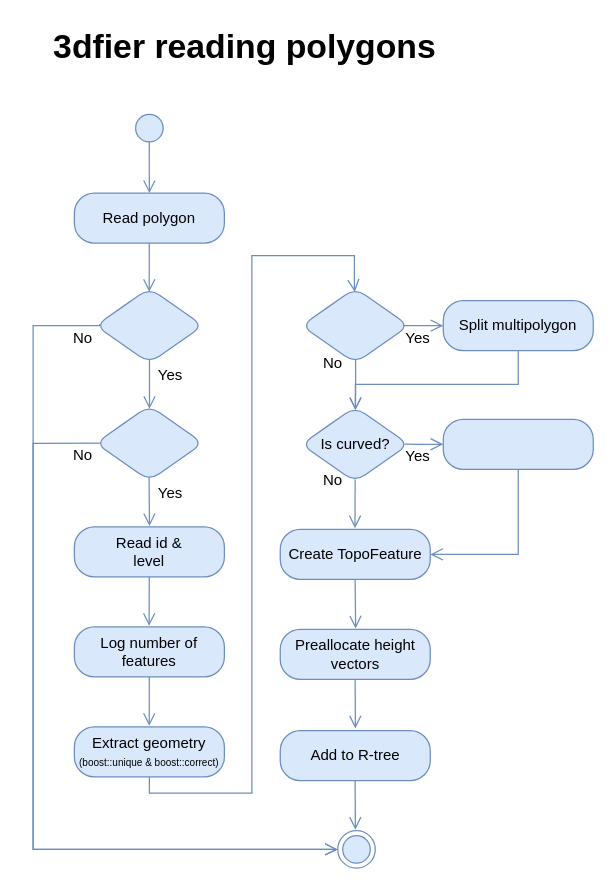
The diagram is 616 pixels wide and 890 high, and some of its shapes have lost their labels. Here are the shapes that lost their labels. From the top down, the centre of each, then its label:
At (148,325): "Within extent?".
At (354,325): "Is multi?".
At (148,442): "Has id & level?".
At (517,443): "Stroke curves".
